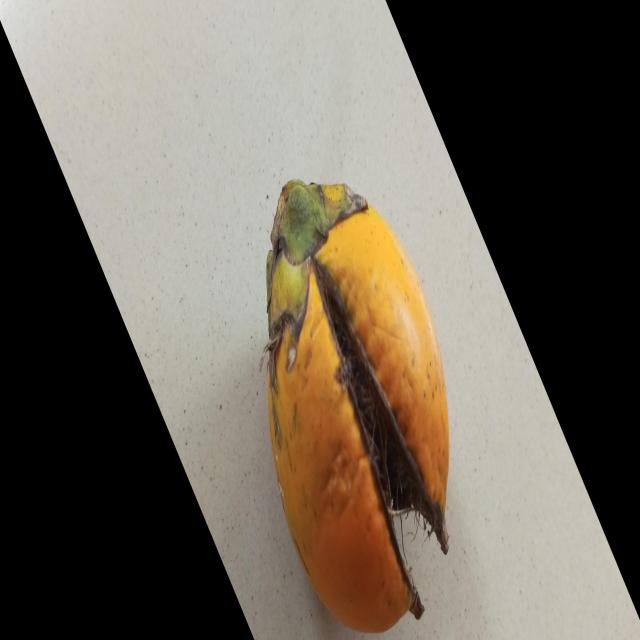damaged: (267, 184, 451, 634)
